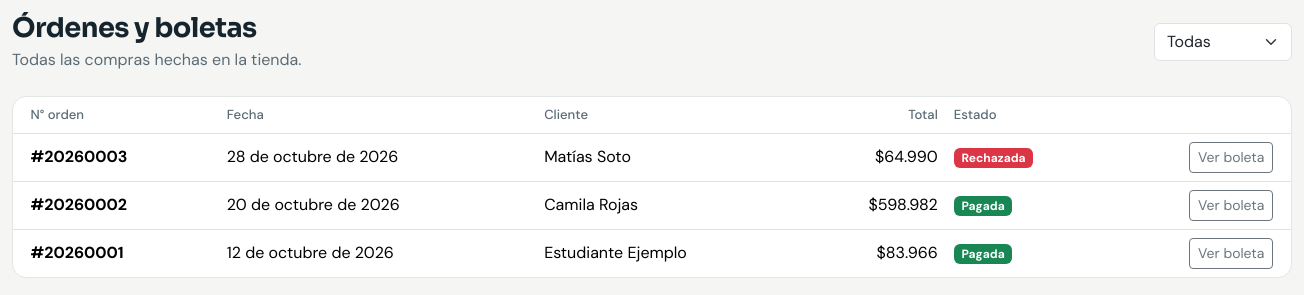
Test: paginas del administrador › Ordenes › lista todas las ordenes y se pueden filtrar por estado
Expected: the number of rows is 4, [13,97,1291,133]; [13,133,1291,181]; [13,181,1291,229]; [13,229,1291,276]
Select "Rechazadas" in the dropdown named "Filtrar por estado" at (1223, 42), box [1154,23,1292,61]
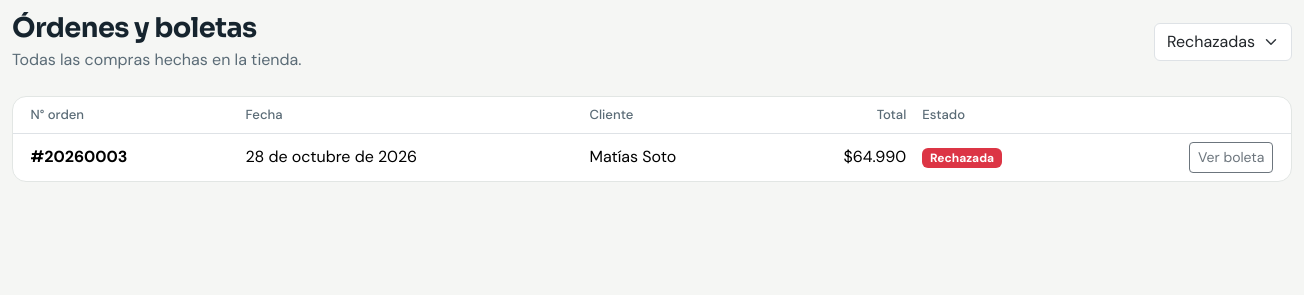
Result: the number of rows is 2 at [13,97,1291,133]; [13,133,1291,180]
